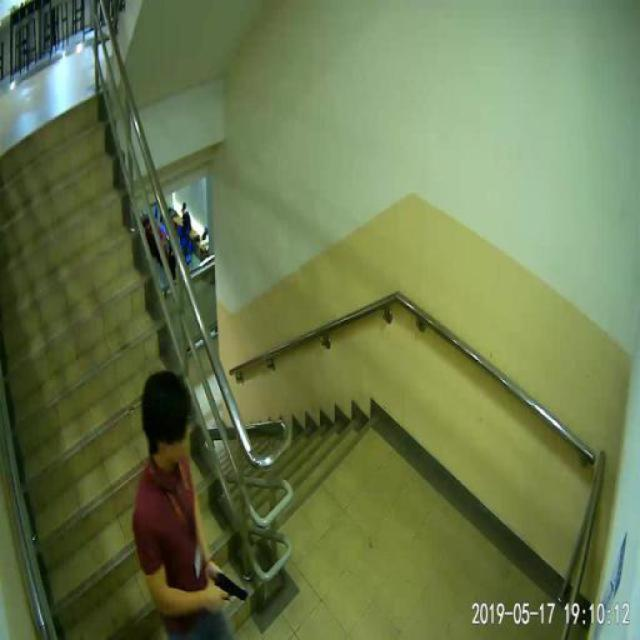pistol: (211, 571, 245, 611)
